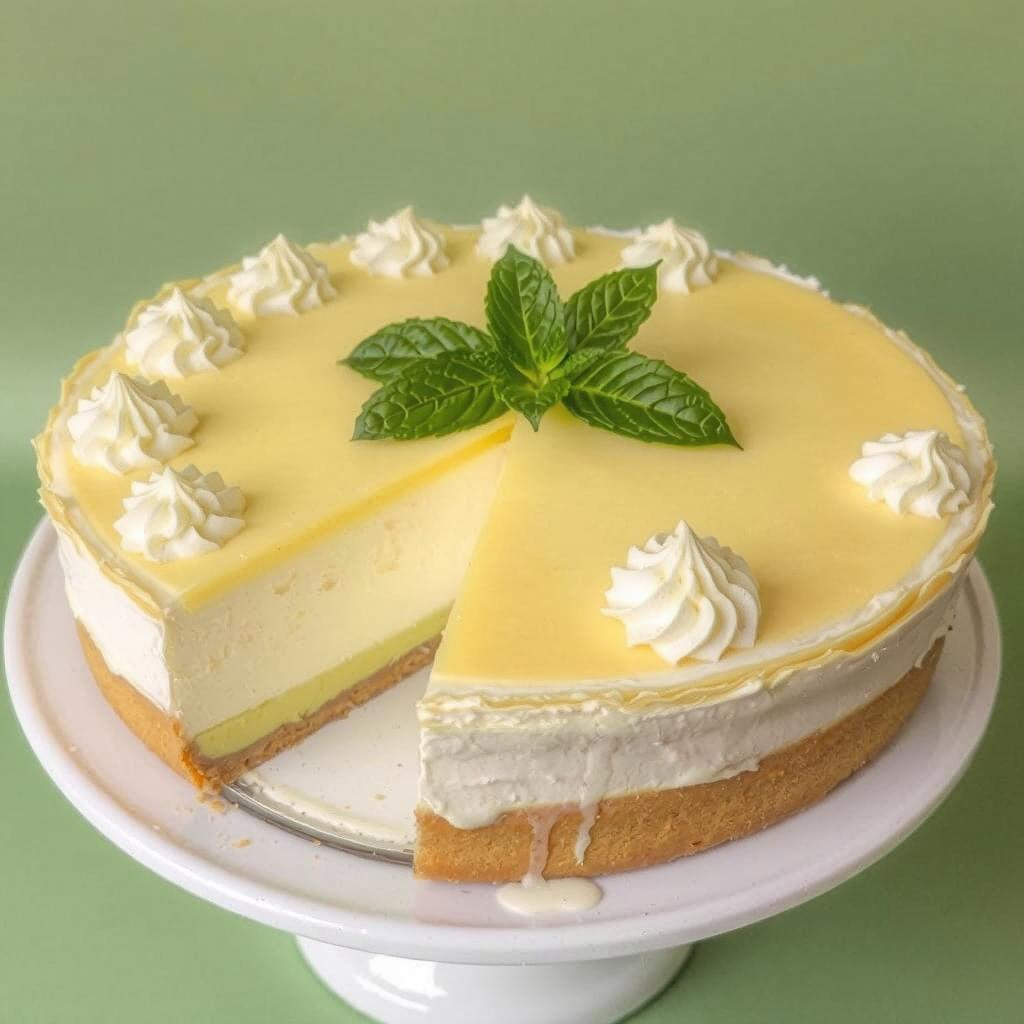pie: (24, 193, 1007, 889)
